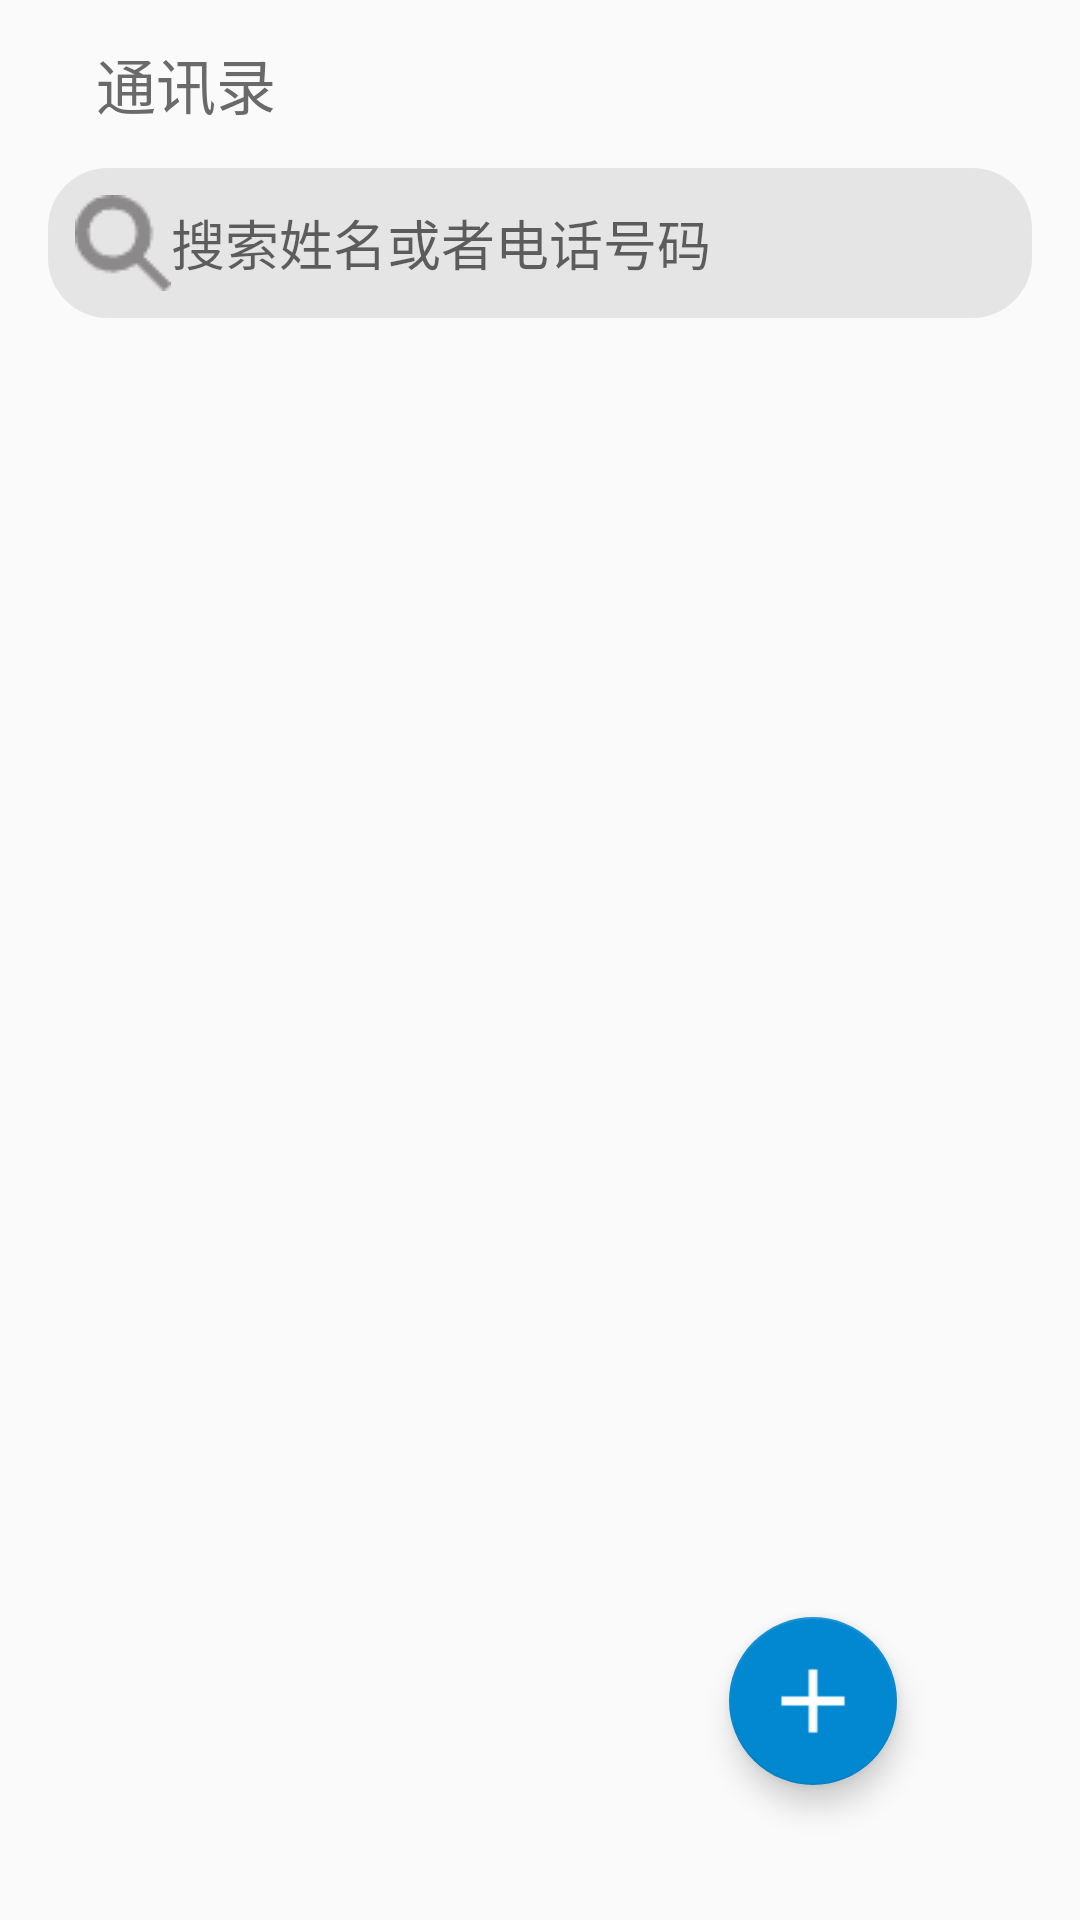

Named icons in this screenshot (1080*1920) and their bounding boxes, (x1, y1, x2, y2):
add: (729, 1617, 897, 1785)
